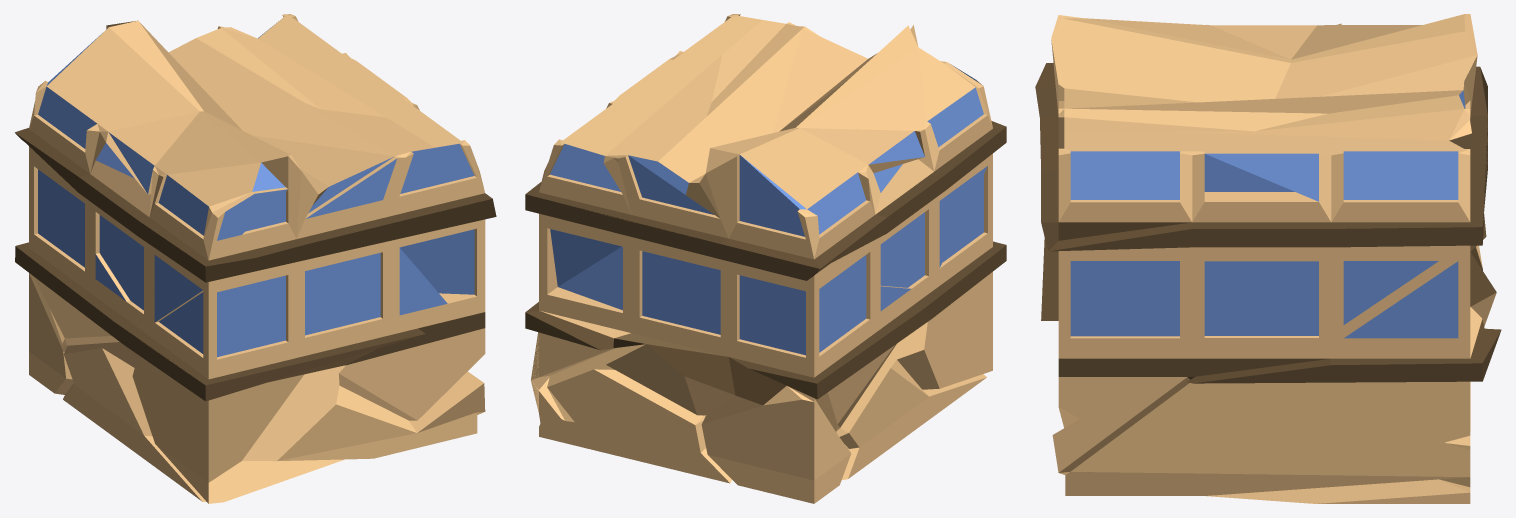
Rendered from T1-Newest4.fbx.
3 renders of one model, left to right at view 1: azimuth 30°, elevation 25°; view 2: azimuth 150°, elevation 25°; view 3: azimuth 270°, elevation 25°, orthographic. The views are drawn at different scales.
Parts seen in each view (by area): view 1: Cube.003; view 2: Cube.003; view 3: Cube.003.
Boxes of the visible parts, left/top/right/bottom form: Cube.003: left=15, top=14, right=496, bottom=503; Cube.003: left=525, top=14, right=1006, bottom=503; Cube.003: left=1035, top=14, right=1501, bottom=503.
Size of the model in its own units: 628 by 662 by 738.
